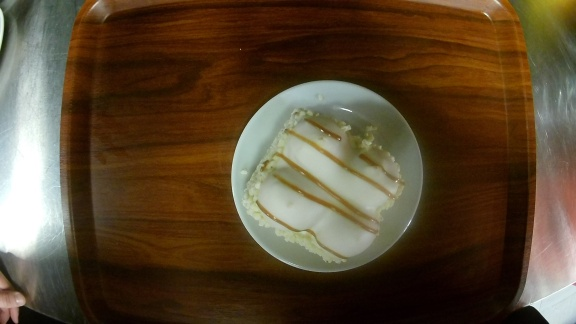beyazpasta: (231, 79, 424, 272)
